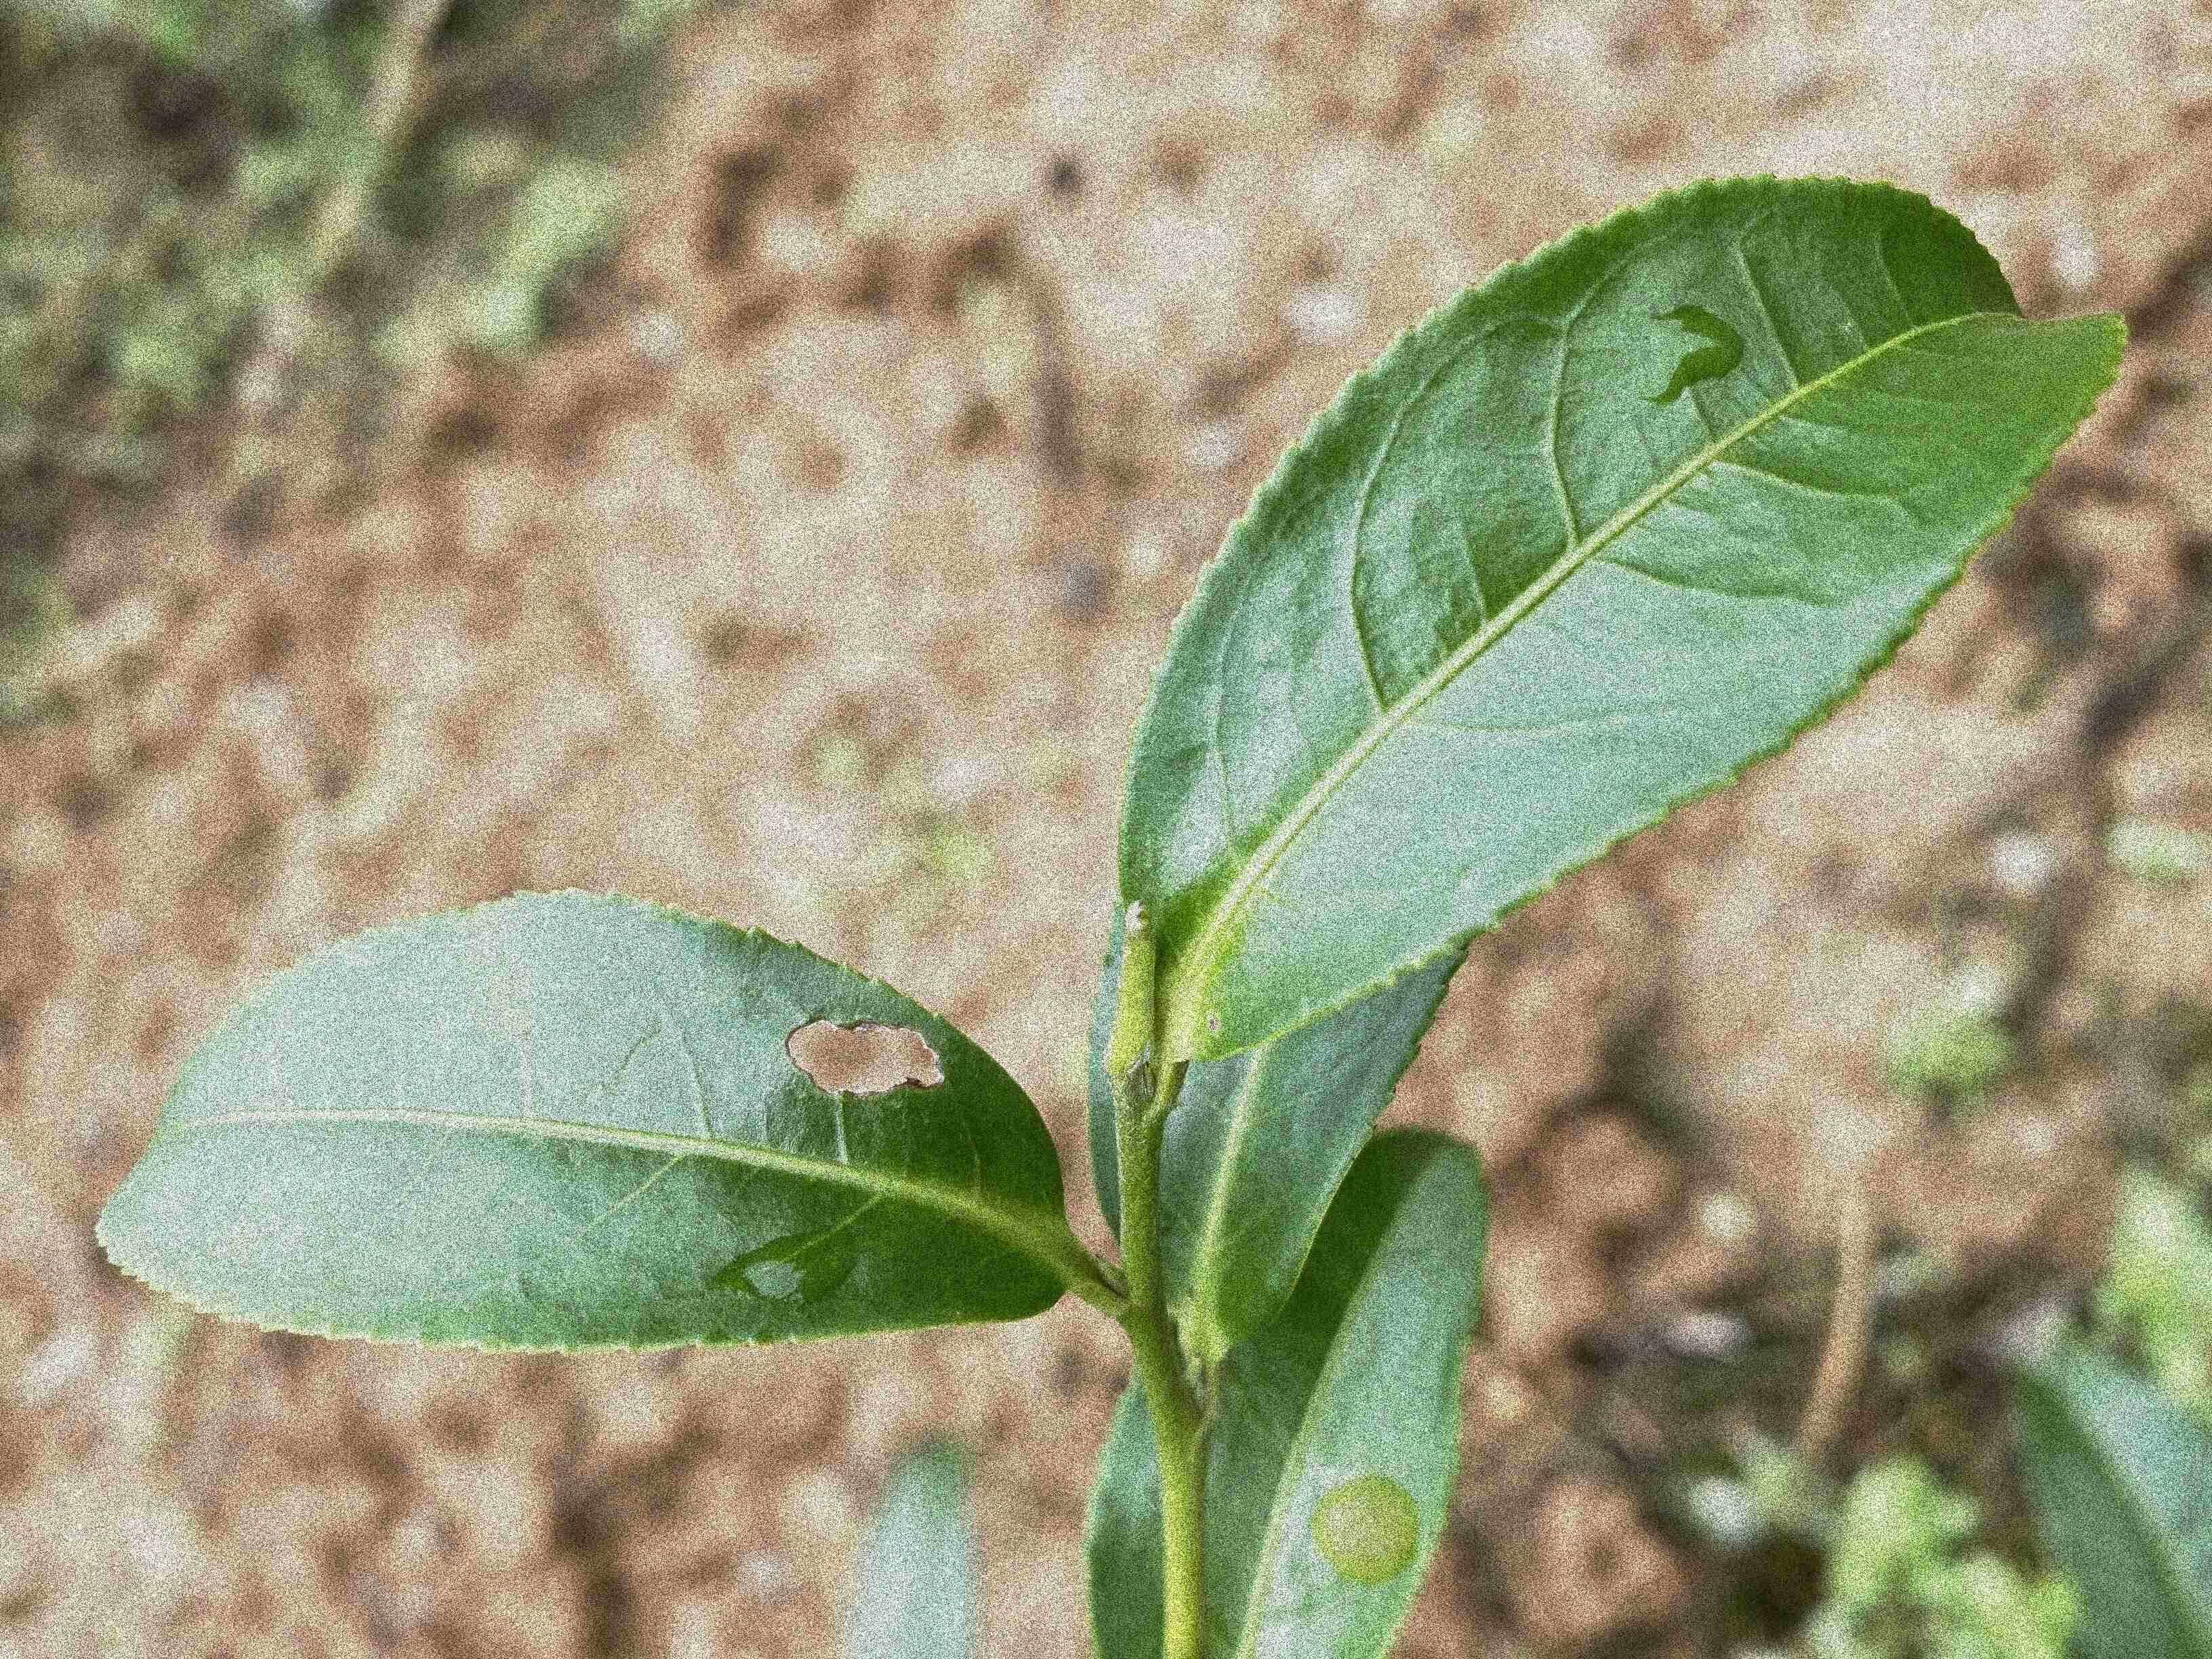chabing_low: (1078, 1124, 1486, 1657)
chihuo_low: (92, 885, 1078, 1354)
healthy: (1118, 176, 2132, 1061)
